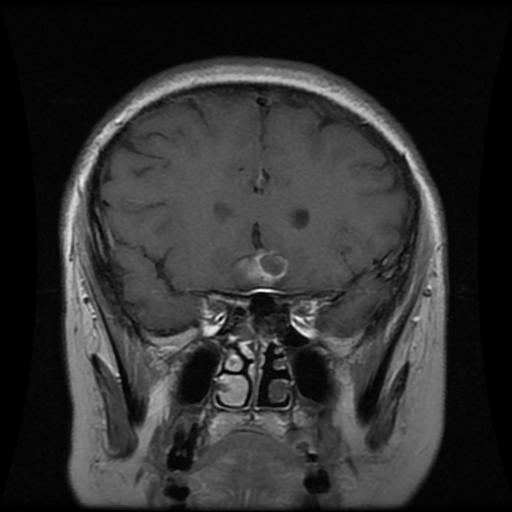Pituirity_tumour: (233, 250, 288, 285)
